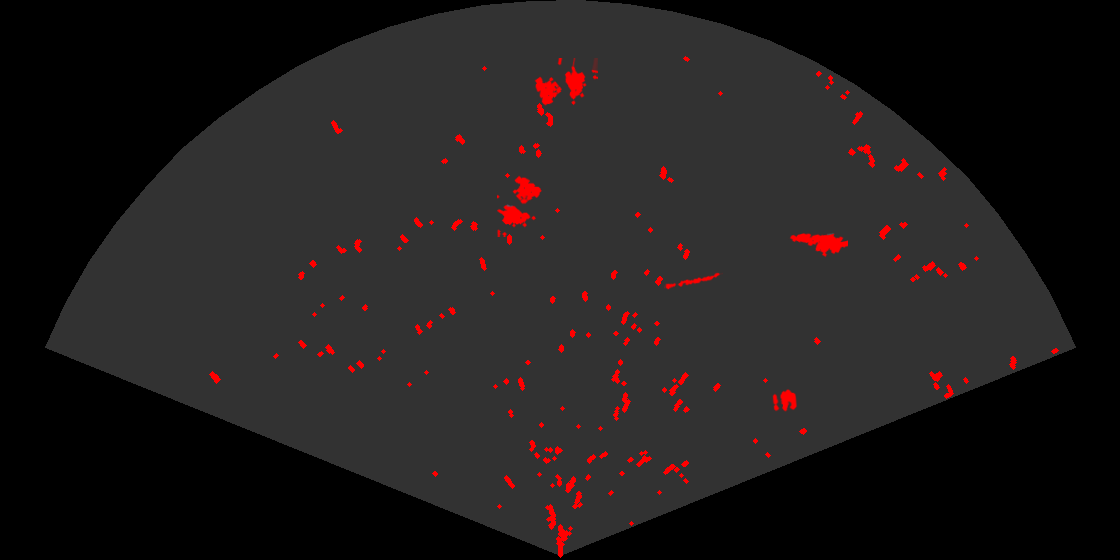ball: (771, 388, 799, 413)
cage: (533, 58, 598, 107), (497, 174, 543, 237)
chain: (664, 271, 723, 291)
frogman: (788, 232, 848, 259)
